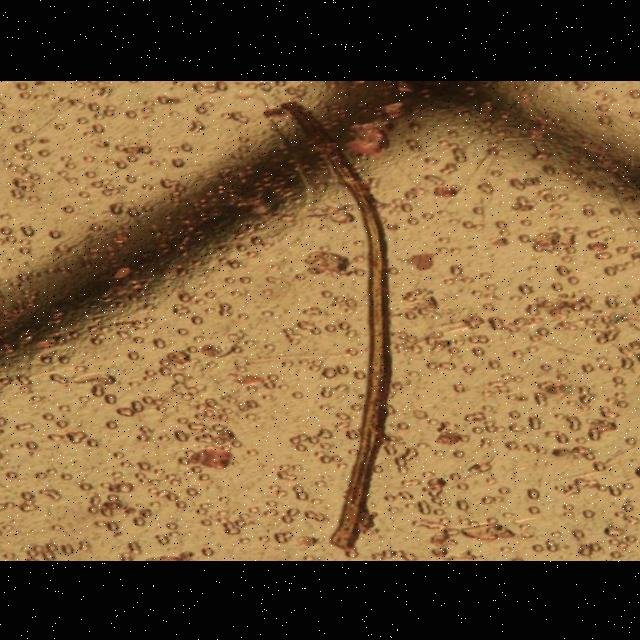Fibre: (252, 96, 401, 552)
